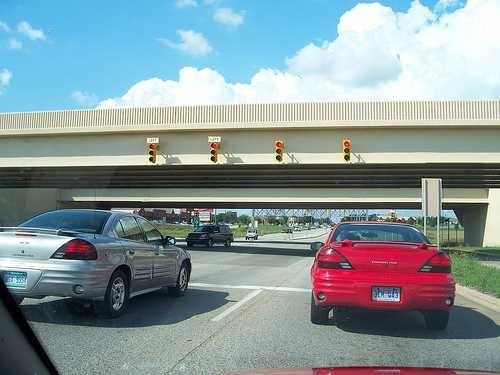red: (209, 141, 219, 164), (147, 142, 156, 165), (274, 139, 282, 163), (343, 139, 351, 163)
